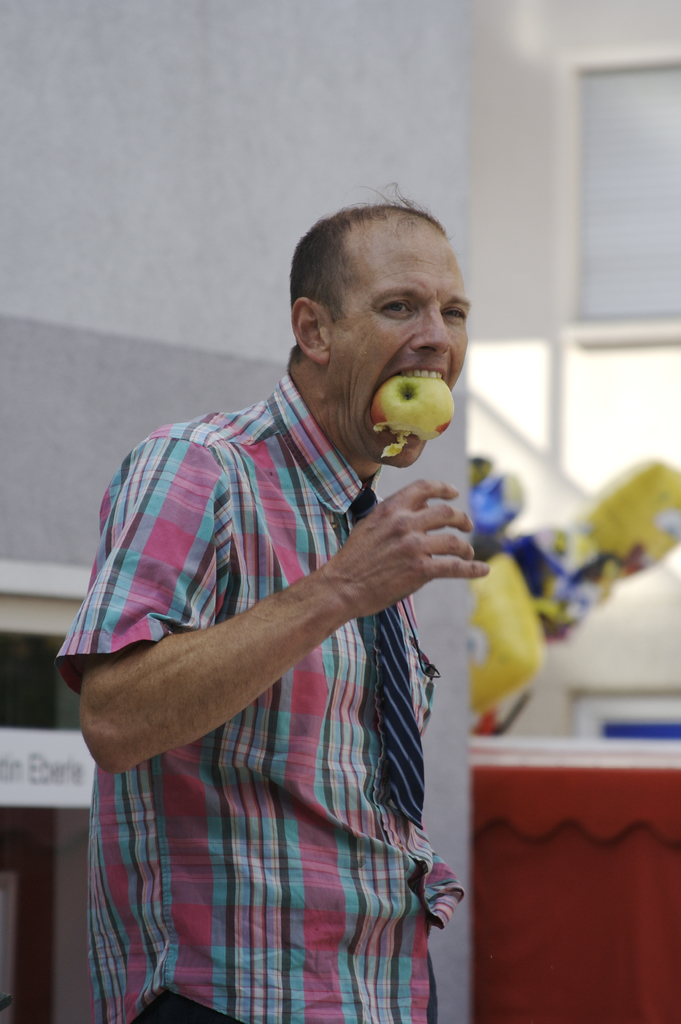Apple: (367, 371, 454, 453)
